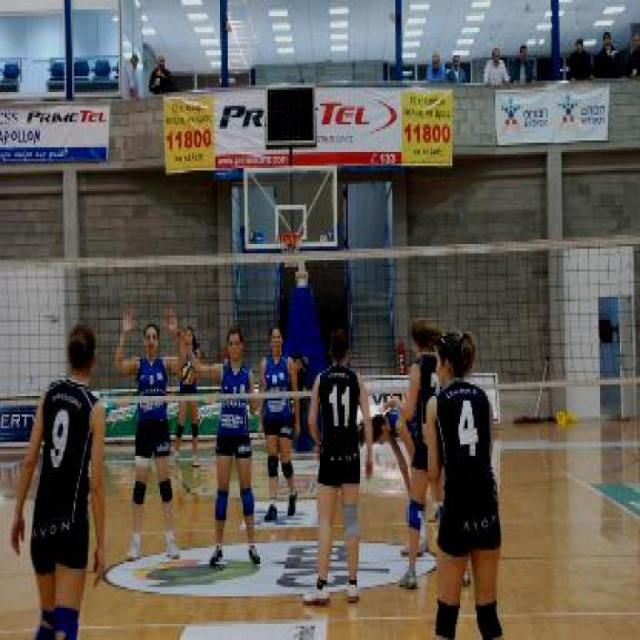volleyball: (180, 364, 192, 384), (290, 398, 296, 417)
